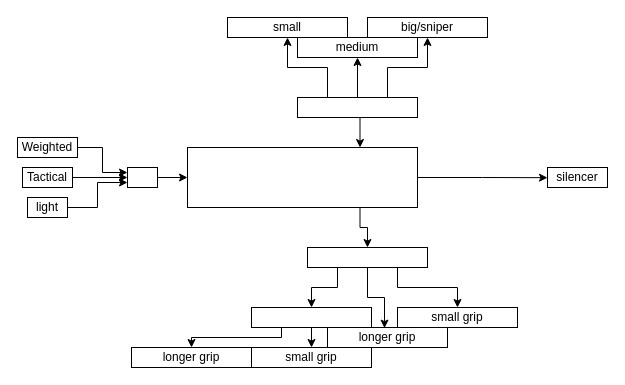
This 625x385 diagram has some shape labels left out. The shapes that lost their labels are listed below. From the top down, each one's centre as x and y in pixels, then its label:
At point 357,107: "scope".
At point 142,177: "stock".
At point 302,177: "GUN".
At point 367,257: "grip".
At point 311,317: "latarka".
